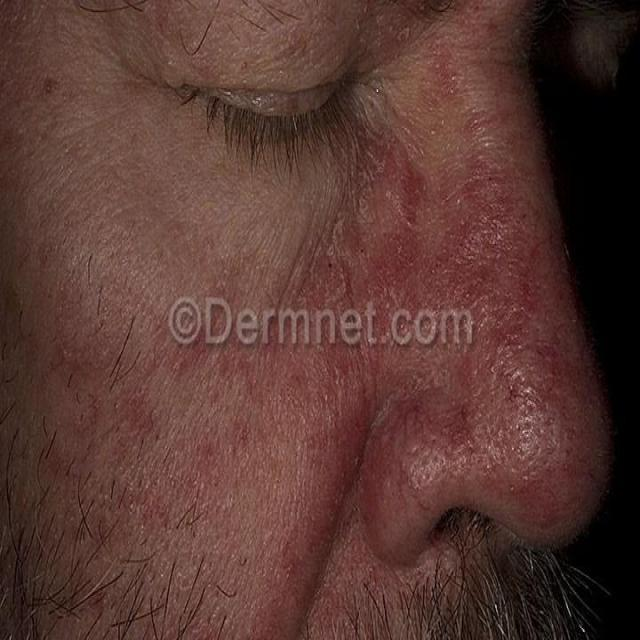Eczema: (92, 37, 589, 630)
